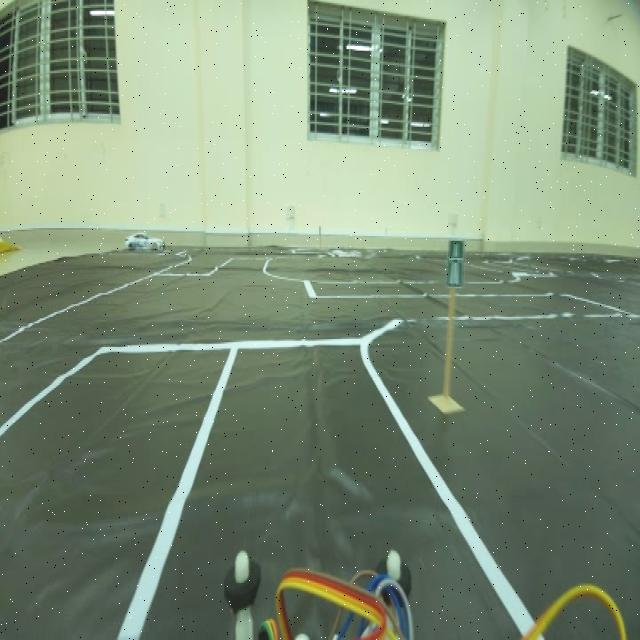highway_entry: (436, 228, 474, 306)
